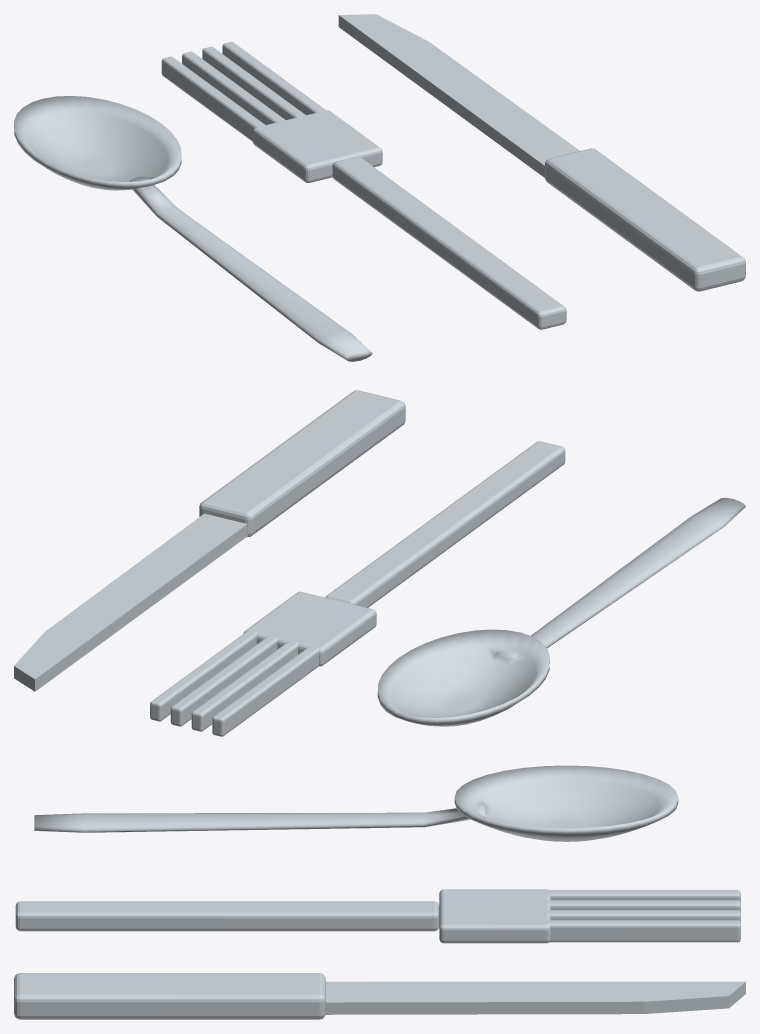
The model's file is universal-cutlery-set.glb.
3 views of the same model, one above another, from view 1: azimuth 30°, elevation 25°; view 2: azimuth 150°, elevation 25°; view 3: azimuth 270°, elevation 25° (orthographic). The views are drawn at different scales.
Parts seen in each view (by area): view 1: Fork neck and grip, Rounded table knife blade, Concave spoon bowl; view 2: Fork neck and grip, Rounded table knife blade, Concave spoon bowl; view 3: Fork neck and grip, Rounded table knife blade, Concave spoon bowl.
Part boxes in pixels (<box>): Fork neck and grip: <box>161,42,566,329</box>; Rounded table knife blade: <box>338,14,745,291</box>; Concave spoon bowl: <box>14,96,372,361</box>; Fork neck and grip: <box>150,441,565,736</box>; Rounded table knife blade: <box>14,390,405,691</box>; Concave spoon bowl: <box>377,497,745,726</box>; Fork neck and grip: <box>15,889,740,943</box>; Rounded table knife blade: <box>14,973,745,1019</box>; Concave spoon bowl: <box>34,765,678,841</box>.
Size of the model in its own units: 0.153 by 0.012 by 0.216.
1 material, 1 textured.
